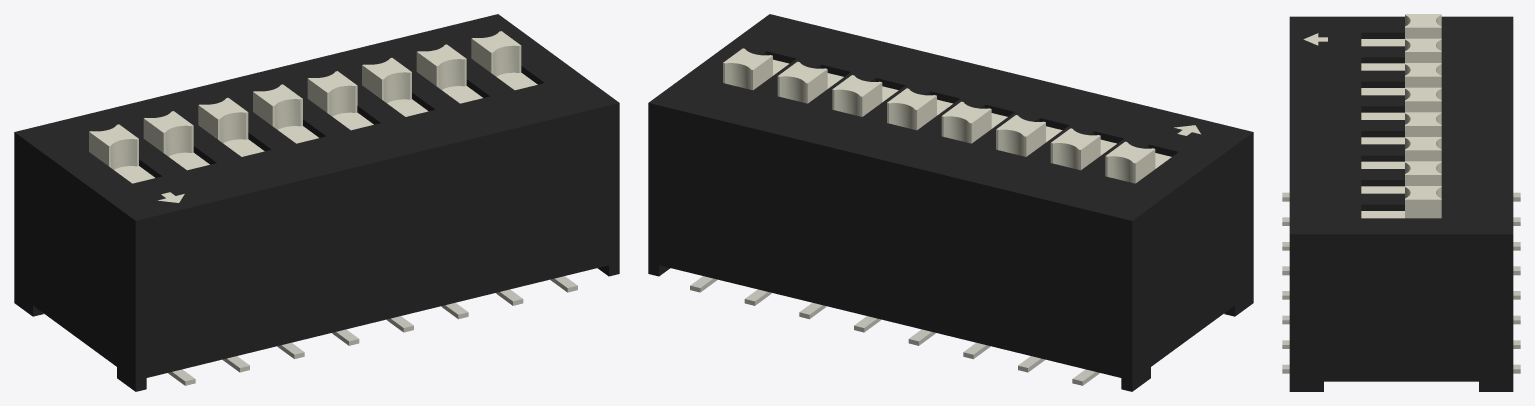
The model's file is kc-sw_dip_spstx08_slide_9.78x22.5mm_w8.61mm_p2.54mm.glb.
3 renders of one model, left to right at view 1: azimuth 30°, elevation 25°; view 2: azimuth 150°, elevation 25°; view 3: azimuth 270°, elevation 25°, orthographic. The views are drawn at different scales.
Parts seen in each view (by area): view 1: 0_0_0_0, 0.75_0.75_0.6666666666666666_0, 0.6666666666666666_0.6666666666666666_0.5833333333333334_0.8; view 2: 0_0_0_0, 0.75_0.75_0.6666666666666666_0, 0.6666666666666666_0.6666666666666666_0.5833333333333334_0.8; view 3: 0_0_0_0, 0.75_0.75_0.6666666666666666_0, 0.6666666666666666_0.6666666666666666_0.5833333333333334_0.8.
Boxes of the visible parts, x1=… form: 0_0_0_0: x1=14, y1=14, x2=619, y2=391; 0.75_0.75_0.6666666666666666_0: x1=89, y1=31, x2=537, y2=202; 0.6666666666666666_0.6666666666666666_0.5833333333333334_0.8: x1=168, y1=276, x2=577, y2=385; 0_0_0_0: x1=648, y1=14, x2=1253, y2=391; 0.75_0.75_0.6666666666666666_0: x1=723, y1=48, x2=1200, y2=183; 0.6666666666666666_0.6666666666666666_0.5833333333333334_0.8: x1=690, y1=276, x2=1099, y2=385; 0_0_0_0: x1=1289, y1=16, x2=1513, y2=391; 0.75_0.75_0.6666666666666666_0: x1=1303, y1=14, x2=1441, y2=218; 0.6666666666666666_0.6666666666666666_0.5833333333333334_0.8: x1=1282, y1=192, x2=1520, y2=373.
Bounding box in the file's own units: 2.25 × 0.8599 × 1.04.
